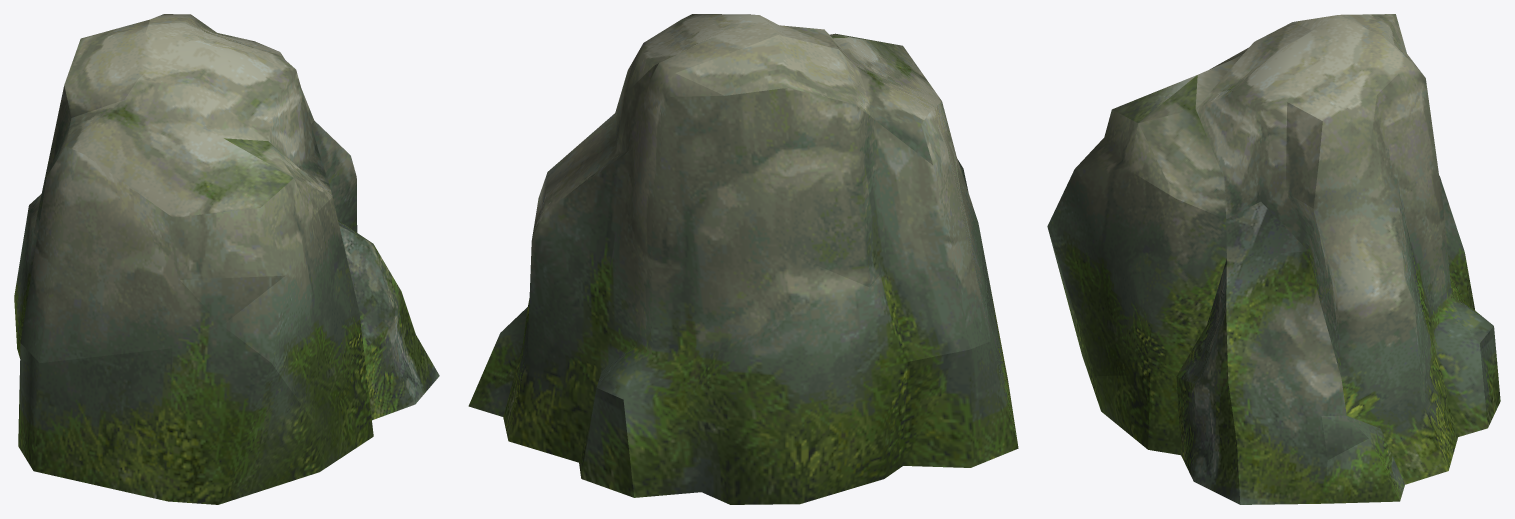
The model's file is yj_shitou_3.FBX.
3 views of the same model, side by side, from view 1: azimuth 30°, elevation 25°; view 2: azimuth 150°, elevation 25°; view 3: azimuth 270°, elevation 25° (orthographic). The views are drawn at different scales.
Parts seen in each view (by area): view 1: yj_shitou_3; view 2: yj_shitou_3; view 3: yj_shitou_3.
Boxes of the visible parts, x1,y1,x2,y2 form: yj_shitou_3: (14,14,439,504); yj_shitou_3: (468,14,1018,504); yj_shitou_3: (1047,14,1500,504).
Size of the model in its own units: 6032 by 5189 by 5769.
